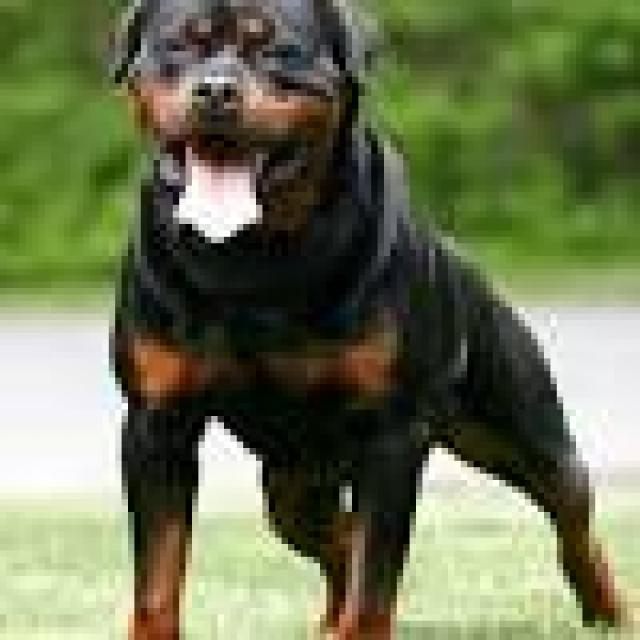Dog: (102, 0, 626, 640)
